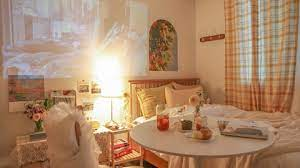Bed: (127, 75, 300, 168)
Table: (128, 111, 278, 168)
curtain: (224, 1, 300, 111)
